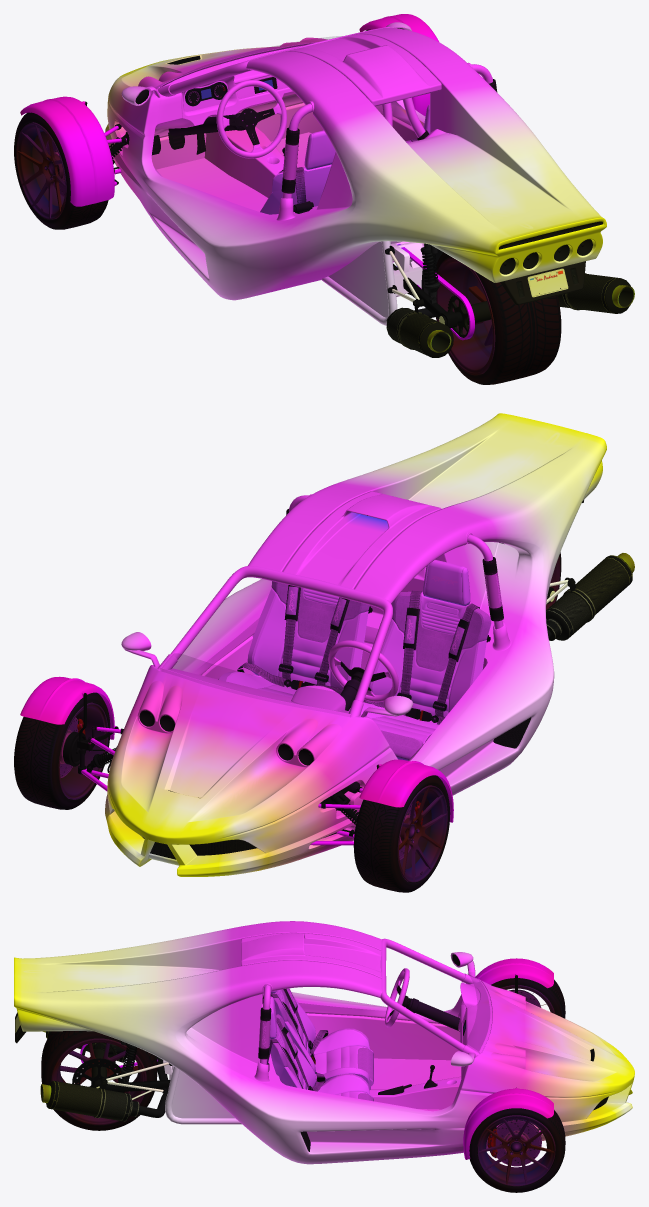
File: raptor.glb
3 renders of one model, top to bottom at view 1: azimuth 30°, elevation 25°; view 2: azimuth 150°, elevation 25°; view 3: azimuth 270°, elevation 25°, orthographic. The views are drawn at different scales.
Visible parts, largest first — view 1: bodyshell, chassis, wheel_lr, wheel_lf, hub_lf, steeringwheel, swingarm, hub_rf; view 2: bodyshell, chassis, wheel_lf, wheel_rf, hub_rf, windscreen, hub_lf, steeringwheel; view 3: bodyshell, chassis, wheel_rf, wheel_lr, hub_rf, hub_lf, swingarm, wheel_lf, bikedisc_r, windscreen, steeringwheel.
Part boxes in pixels (<box>): bodyshell: <box>105,22,634,357</box>; chassis: <box>104,46,437,283</box>; wheel_lr: <box>435,252,561,384</box>; wheel_lf: <box>14,112,108,229</box>; hub_lf: <box>20,96,121,206</box>; steeringwheel: <box>216,80,286,158</box>; swingarm: <box>393,244,491,340</box>; hub_rf: <box>359,14,438,116</box>; bodyshell: <box>105,413,634,876</box>; chassis: <box>78,559,491,845</box>; wheel_lf: <box>353,775,450,892</box>; wheel_rf: <box>14,692,110,809</box>; hub_rf: <box>20,676,119,767</box>; windscreen: <box>162,654,353,713</box>; hub_lf: <box>325,759,453,825</box>; steeringwheel: <box>328,640,398,702</box>; bodyshell: <box>14,921,634,1164</box>; chassis: <box>121,981,541,1134</box>; wheel_rf: <box>469,1108,565,1192</box>; wheel_lr: <box>41,1031,157,1130</box>; hub_rf: <box>463,1087,553,1159</box>; hub_lf: <box>475,958,553,993</box>; swingarm: <box>80,1044,170,1100</box>; wheel_lf: <box>491,978,565,1018</box>; bikedisc_r: <box>72,1042,124,1092</box>; windscreen: <box>467,974,489,1050</box>; steeringwheel: <box>385,968,409,1027</box>.
Bounding box in the file's own units: 1.92 × 1.11 × 3.43.
Materials: 25 (20 with a texture image).
